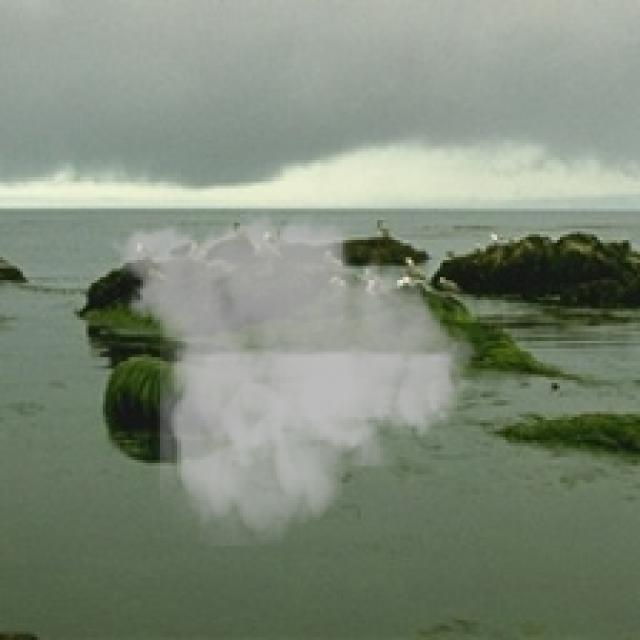smoke: (100, 203, 489, 546)
